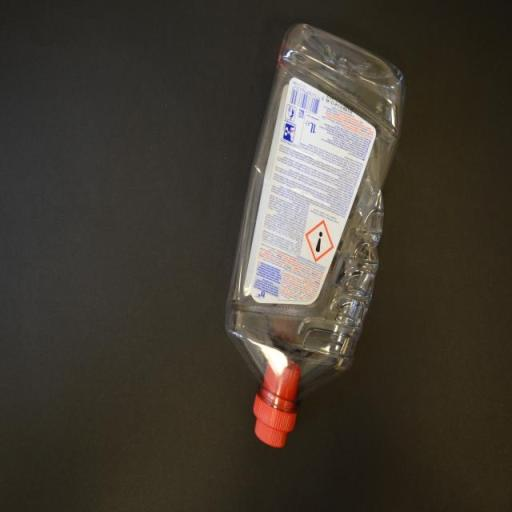plastic: (225, 24, 407, 452)
